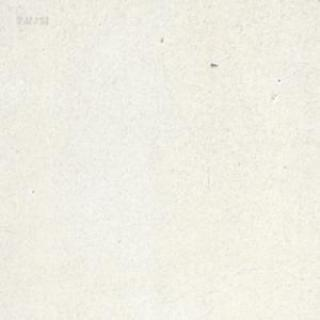Nailtrack_idkeyframe: (210, 61, 217, 66)
